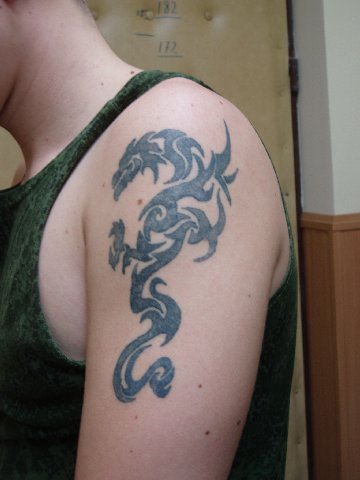tatu6_drakon: (93, 121, 262, 412)
